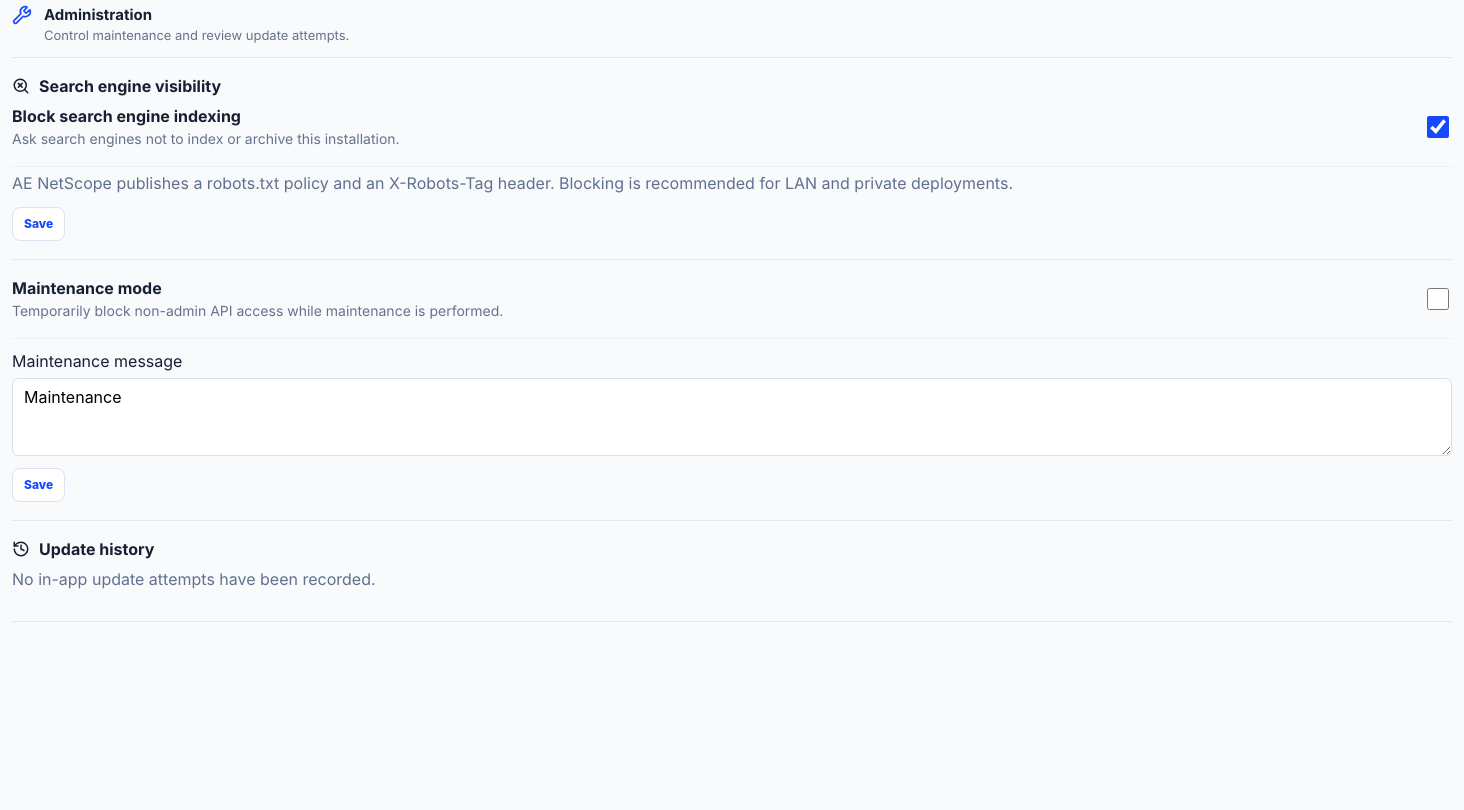
Test: AdminSettings › blocks search indexing by default and persists an explicit opt-in
Click the checkbox labelled "Block search engine indexing".
click(1438, 127)  # box x1=1427 y1=116 x2=1449 y2=138
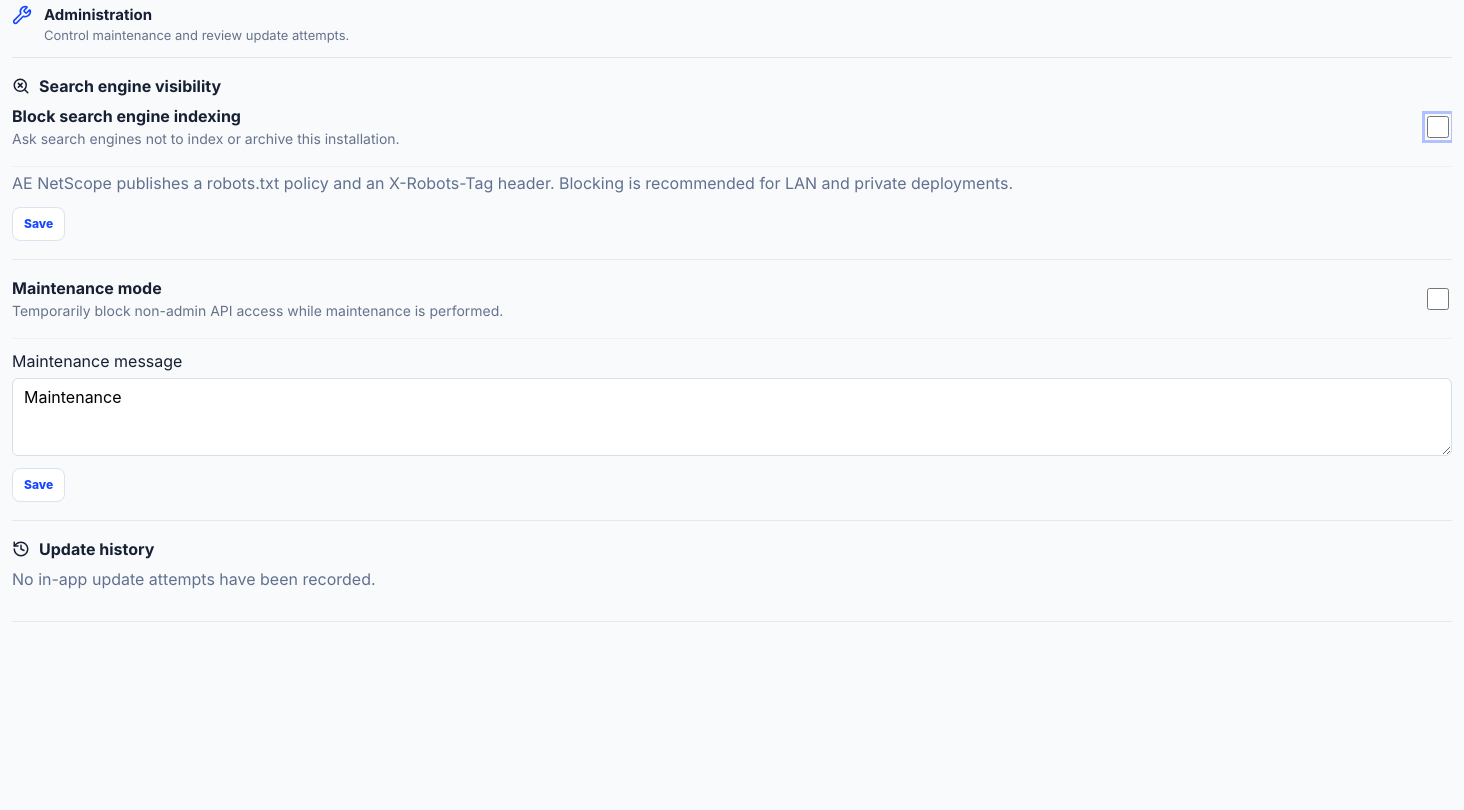
Click the button "Save" below "Block search engine indexing".
click(39, 224)  # box x1=12 y1=207 x2=65 y2=241
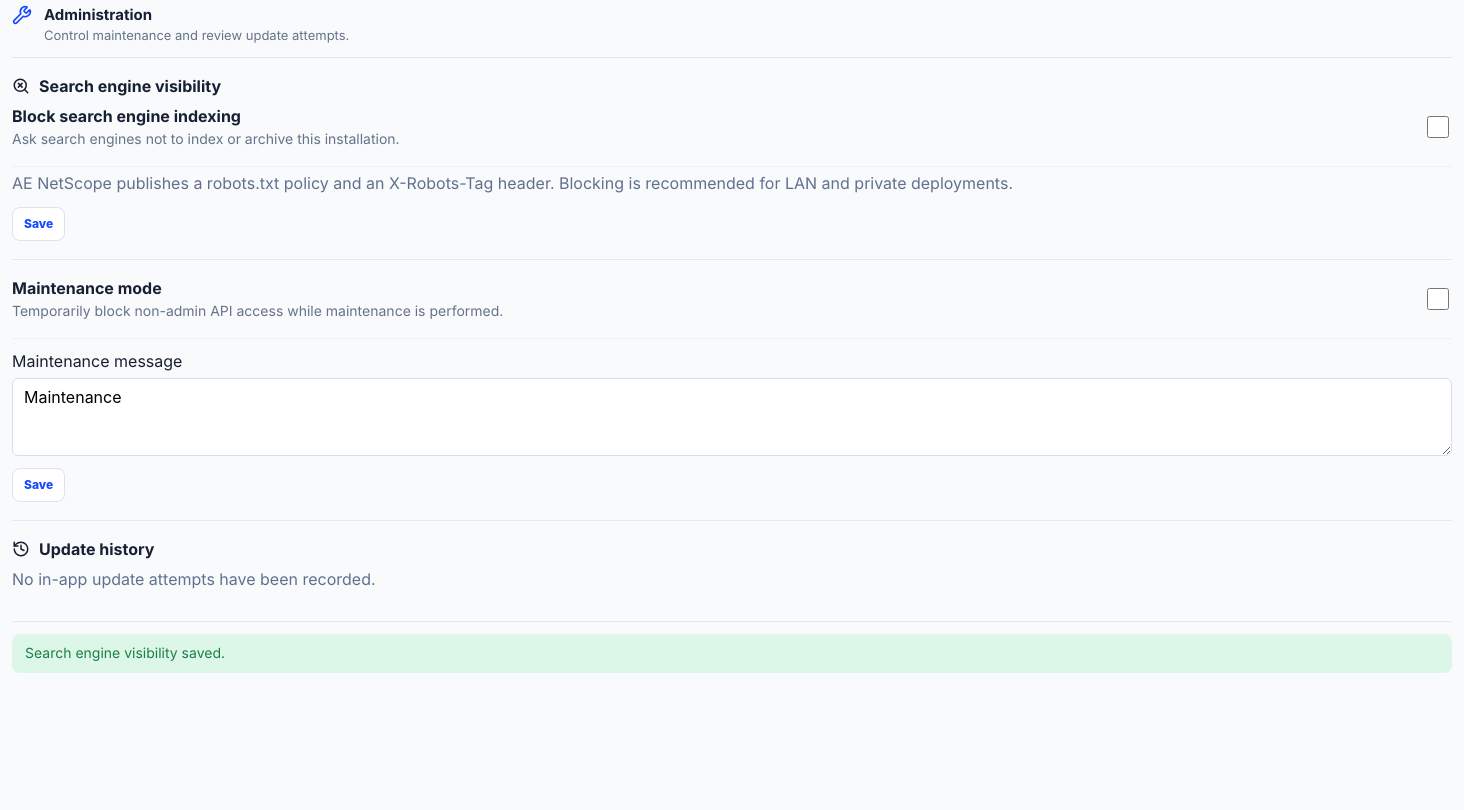
Now the text "Search engine visibility saved." is shown, box x1=12 y1=634 x2=1452 y2=673
